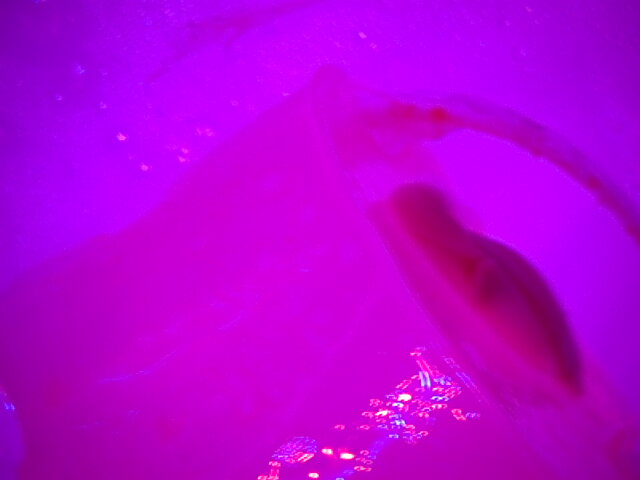seed: (355, 144, 601, 409)
